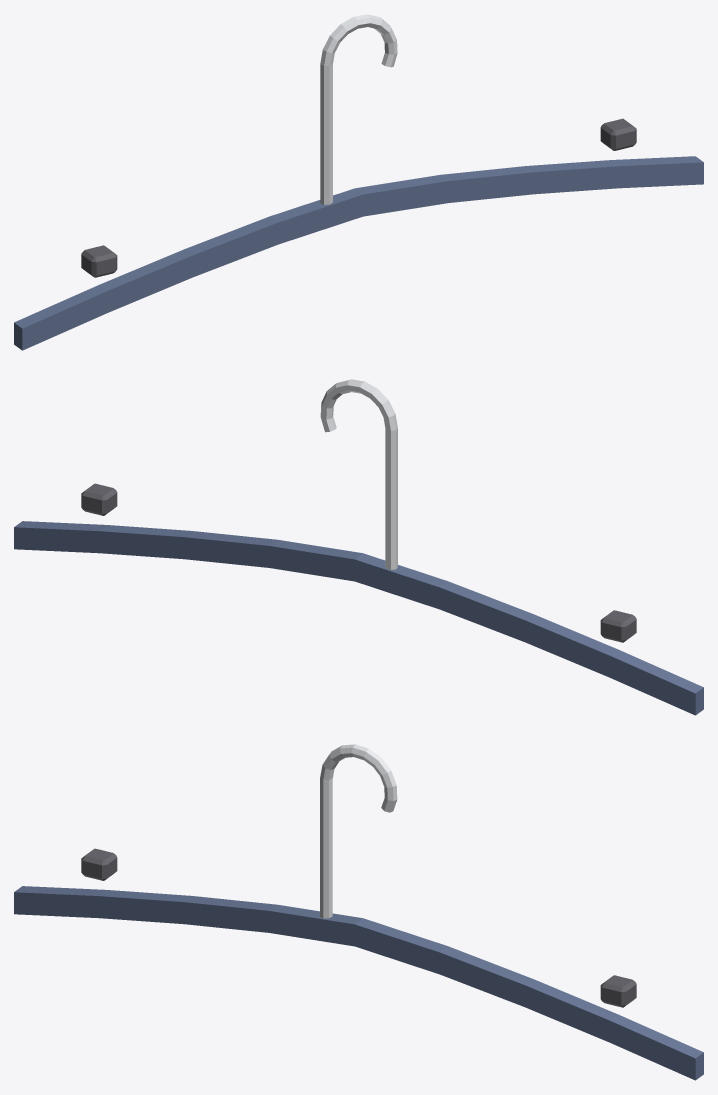
The model's file is clothing-rail-and-wardrobe-velvet-hanger-empty-166b4f0e__35461.glb.
3 views of the same model, one above another, from view 1: azimuth 30°, elevation 25°; view 2: azimuth 150°, elevation 25°; view 3: azimuth 330°, elevation 25° (orthographic).
Parts seen in each view (by area): view 1: velvet-hanger-empty; view 2: velvet-hanger-empty; view 3: velvet-hanger-empty.
Part boxes in pixels (x1,y1,x2,y2): velvet-hanger-empty: [14, 14, 703, 350]; velvet-hanger-empty: [14, 379, 703, 715]; velvet-hanger-empty: [14, 744, 703, 1080].
Size of the model in its own units: 0.42 by 0.1463 by 0.015.
